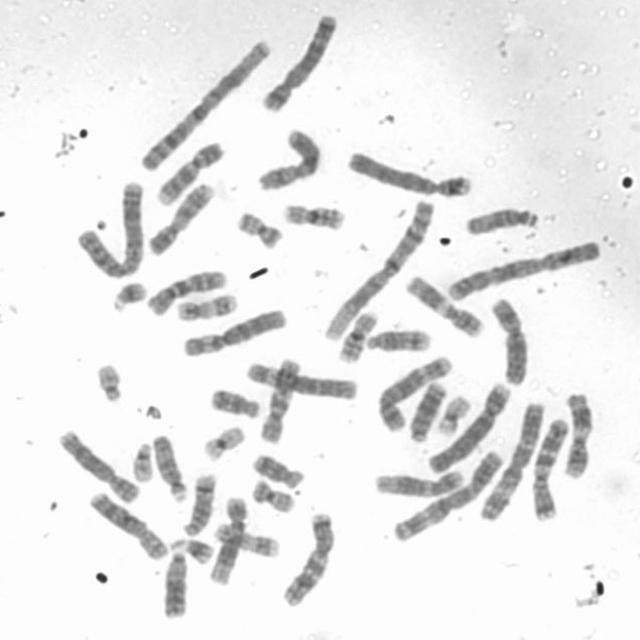A1: (135, 39, 269, 172), (322, 200, 436, 341)
A2: (444, 237, 604, 303), (78, 182, 145, 279)
A3: (389, 448, 503, 541), (480, 400, 547, 523)
B4: (425, 381, 512, 473), (346, 150, 472, 198)
B5: (260, 14, 340, 115), (376, 354, 453, 434)
C10: (143, 268, 228, 317), (257, 358, 304, 444)
C11: (404, 276, 483, 341), (564, 393, 592, 478)
C12: (206, 495, 249, 586), (370, 469, 465, 502)
C6: (182, 306, 288, 357), (244, 363, 361, 403)
C7: (276, 508, 339, 611), (529, 419, 572, 521)
C8: (57, 430, 141, 502), (90, 492, 167, 562)
C9: (145, 178, 215, 258), (155, 139, 225, 207)
D13: (407, 379, 447, 443), (162, 550, 188, 624)
D14: (179, 471, 217, 537), (363, 329, 431, 353)
D15: (151, 432, 190, 503), (464, 207, 541, 235)
E16: (334, 308, 378, 364), (281, 200, 350, 233)
E17: (212, 523, 280, 559), (172, 294, 241, 322)
E18: (248, 454, 308, 490), (207, 388, 260, 420)
F19: (199, 424, 247, 464), (435, 393, 472, 439)
F20: (234, 212, 284, 252), (250, 479, 298, 515)
G21: (168, 536, 217, 566), (111, 281, 149, 311)
G22: (95, 361, 124, 404), (130, 441, 154, 483)
X: (253, 130, 325, 193), (489, 297, 530, 387)
